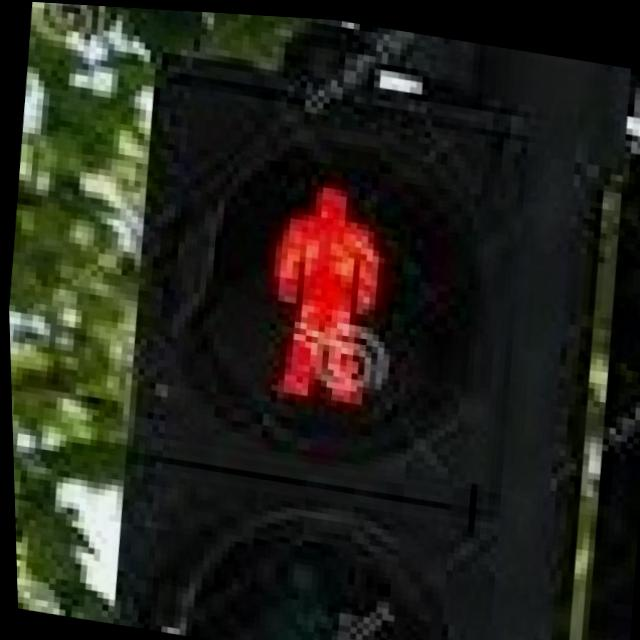red_light: (207, 132, 421, 425)
